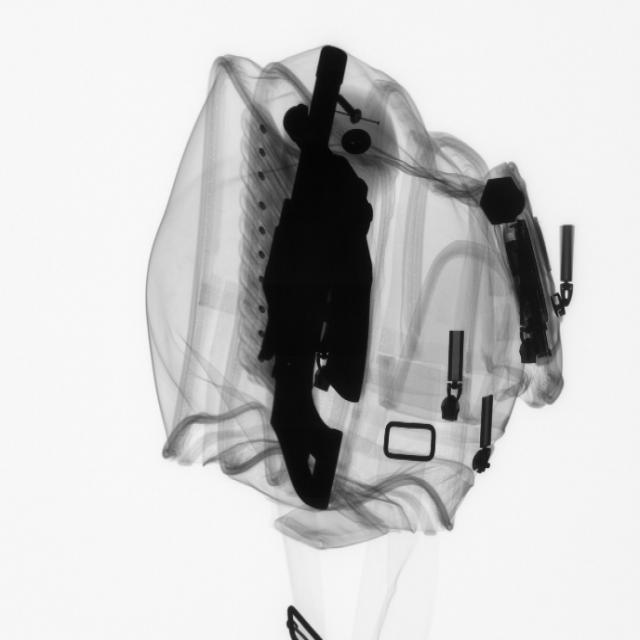GUN: (264, 30, 391, 453)
